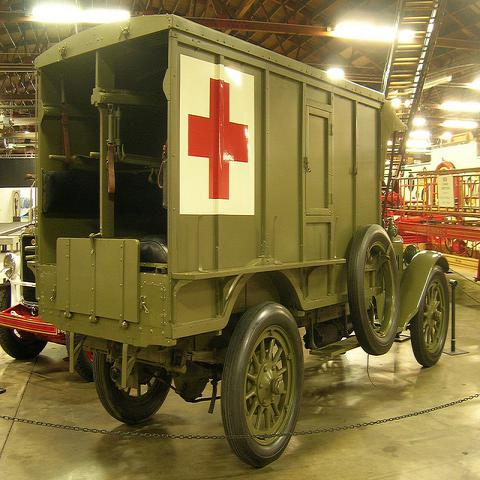truck: (33, 14, 453, 459)
